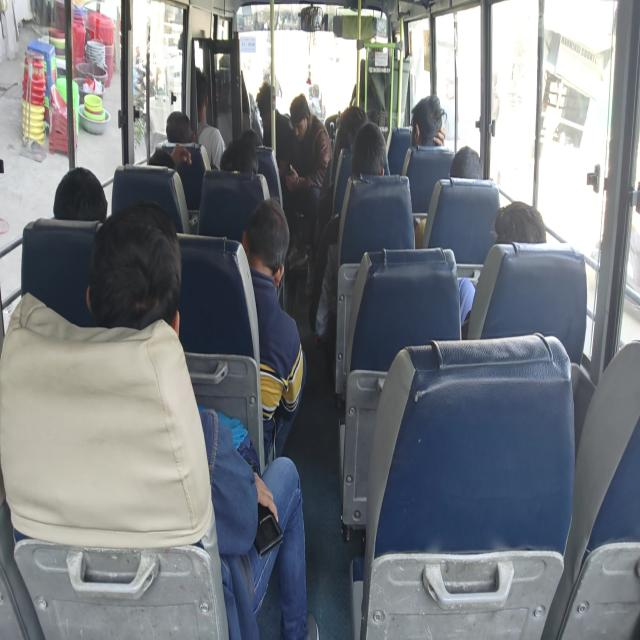person: (102, 234, 188, 344), (56, 162, 112, 233), (247, 200, 290, 280), (492, 207, 554, 260), (355, 133, 389, 183), (450, 144, 487, 188), (412, 108, 448, 150), (223, 143, 265, 178), (186, 78, 213, 123), (166, 112, 199, 148), (148, 147, 181, 183), (362, 28, 386, 70), (234, 122, 263, 154), (343, 106, 367, 143), (289, 100, 309, 140), (219, 37, 237, 77), (261, 89, 278, 122)
